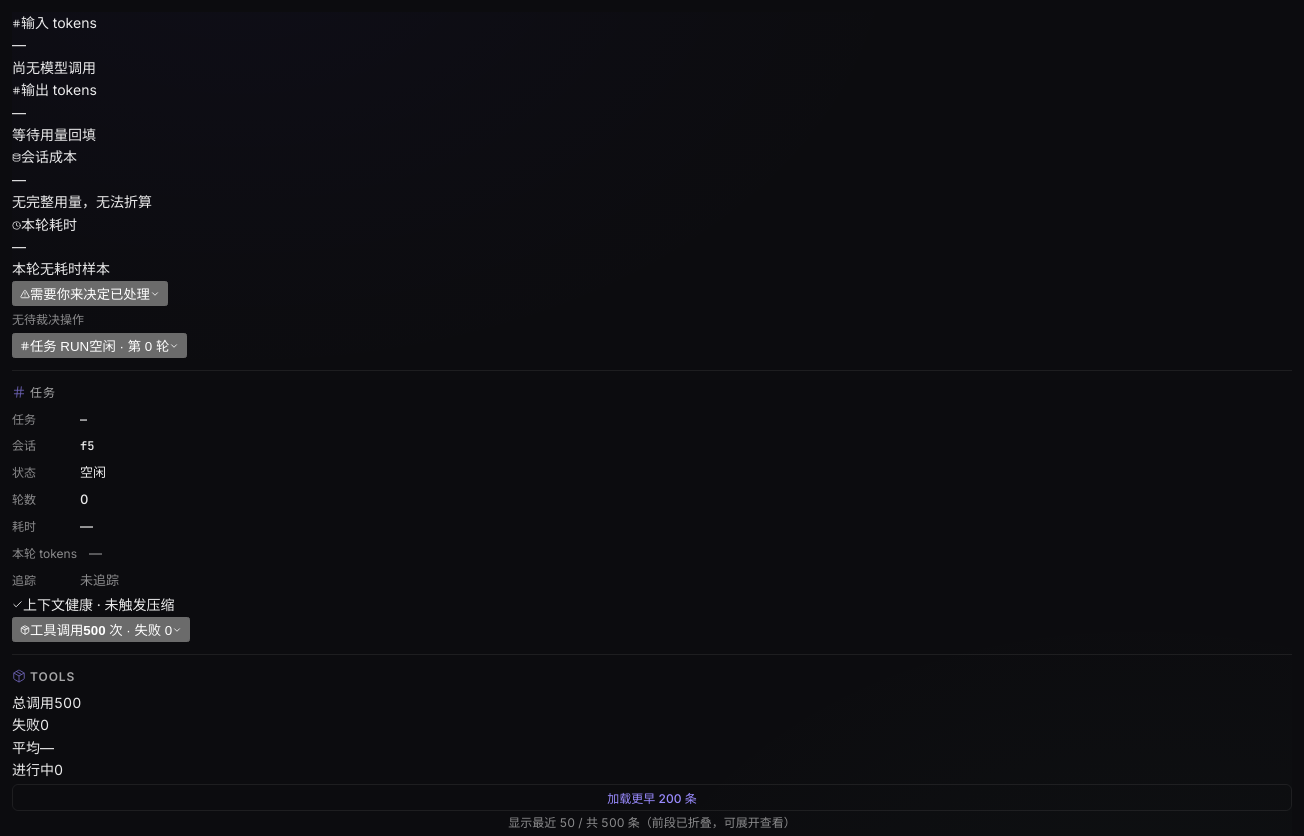
Test: F5 尾窗：出口能到达全部条目（AC4） › TOOLS：有「加载更早」出口，点到窗口到底时行数 = N
What coordinates should you click on to do the following:
click the button with class "timeline-earlier"
I would click on:
 (652, 797)
Its box is [12, 784, 1292, 811].
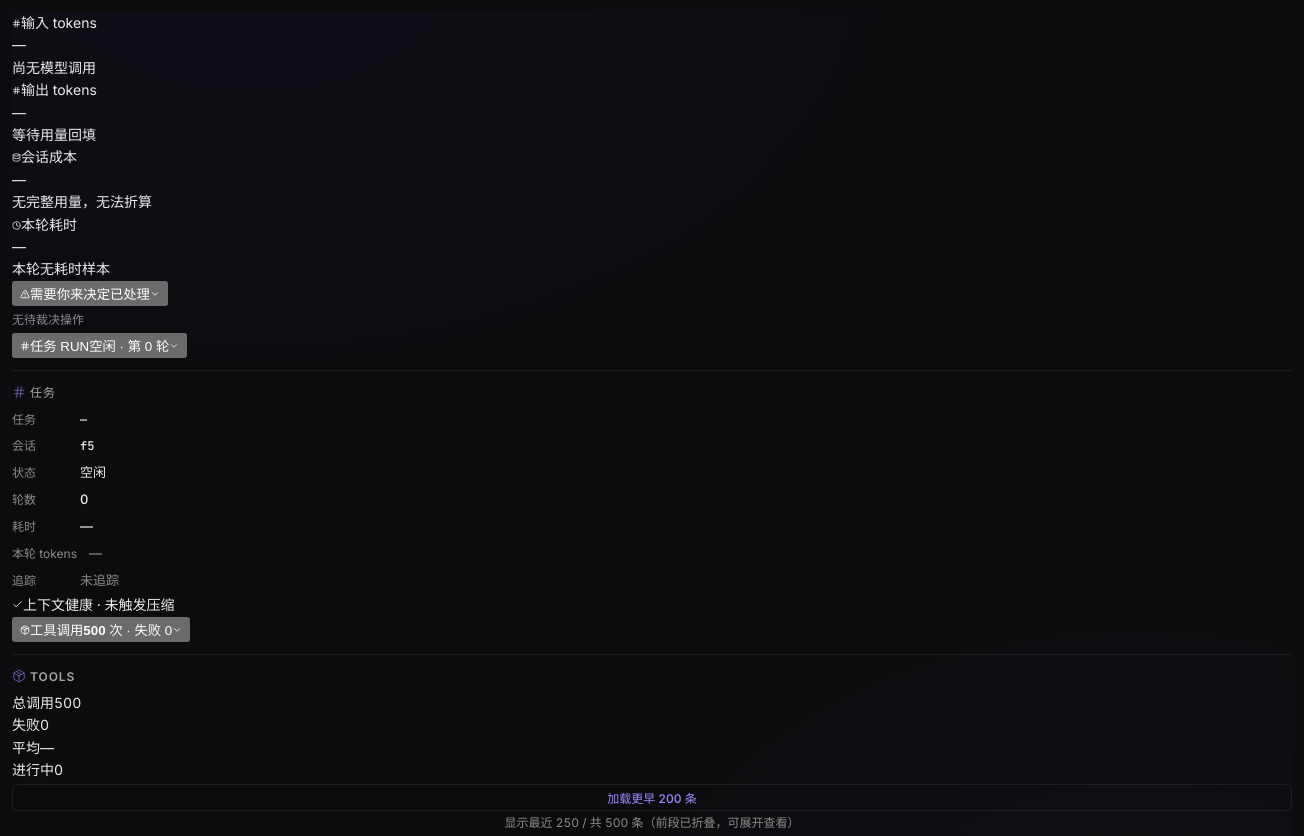
What coordinates should you click on to do the following:
click the button with class "timeline-earlier"
I would click on:
 (652, 797)
Its box is [12, 784, 1292, 811].
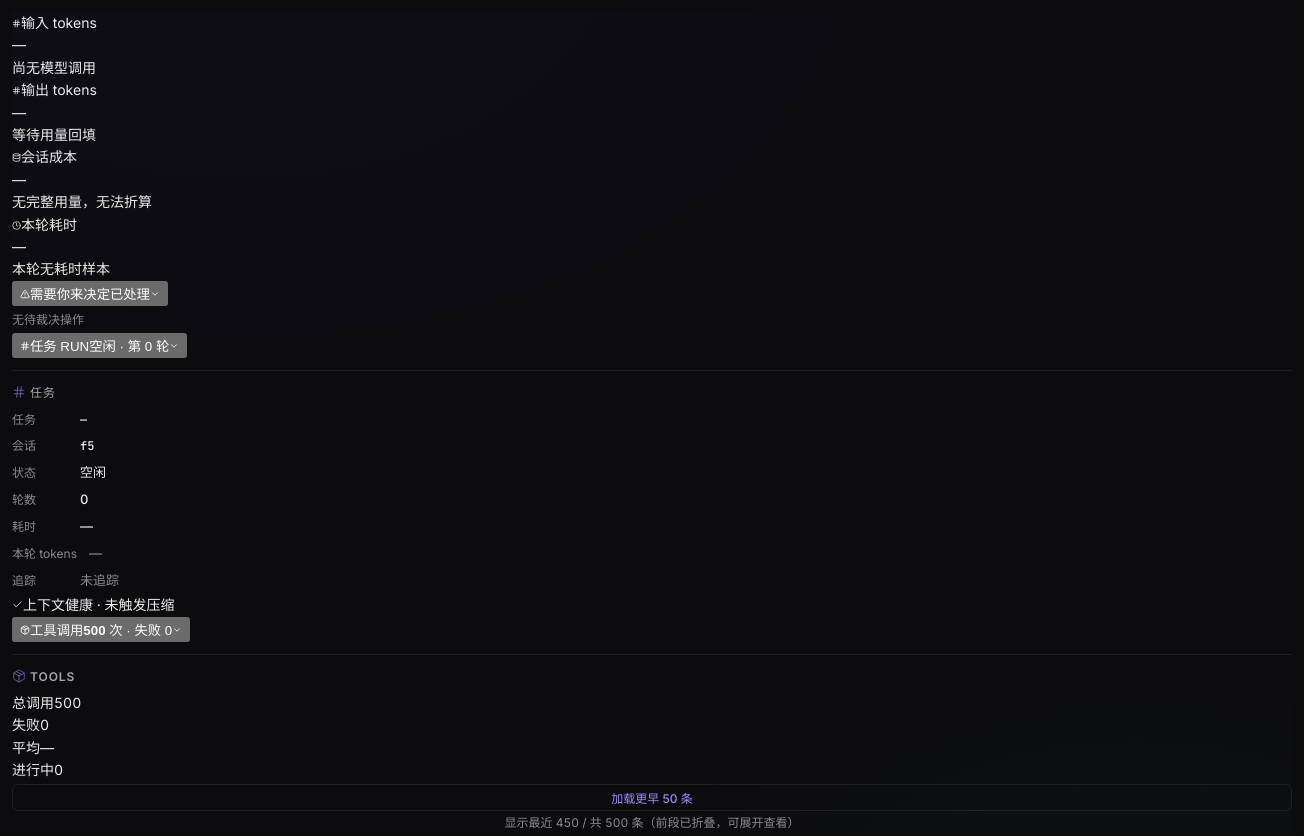
What coordinates should you click on to do the following:
click the button with class "timeline-earlier"
I would click on:
 (652, 797)
Its box is [12, 784, 1292, 811].
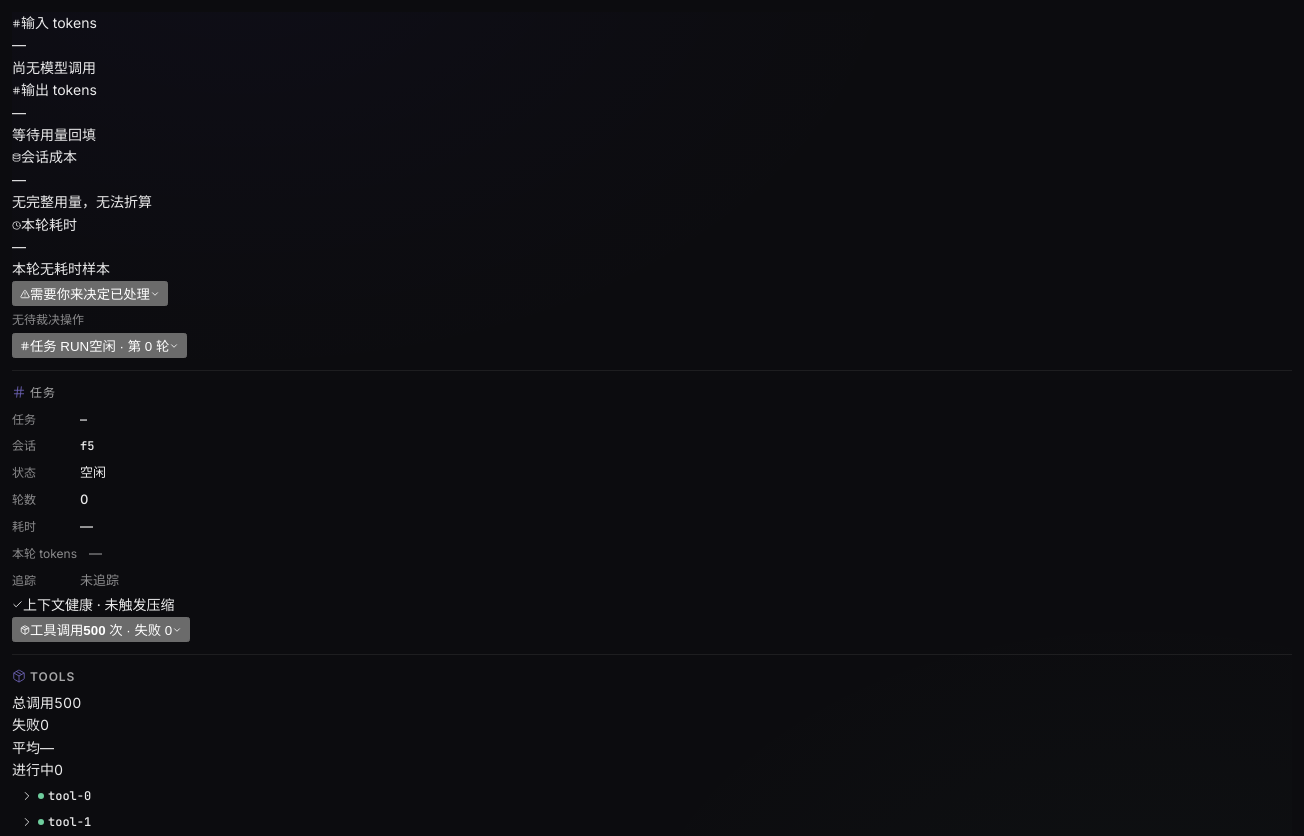
Expected: the button with class "timeline-earlier" is gone
